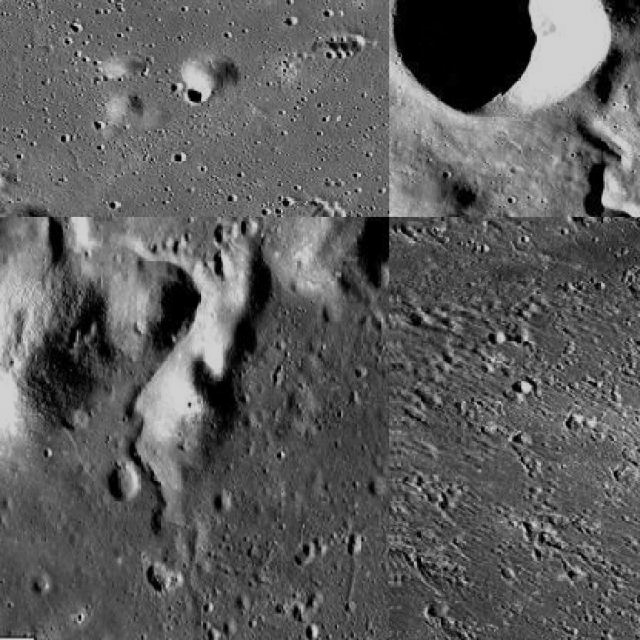crater: (0, 0, 209, 215), (117, 350, 169, 544)
